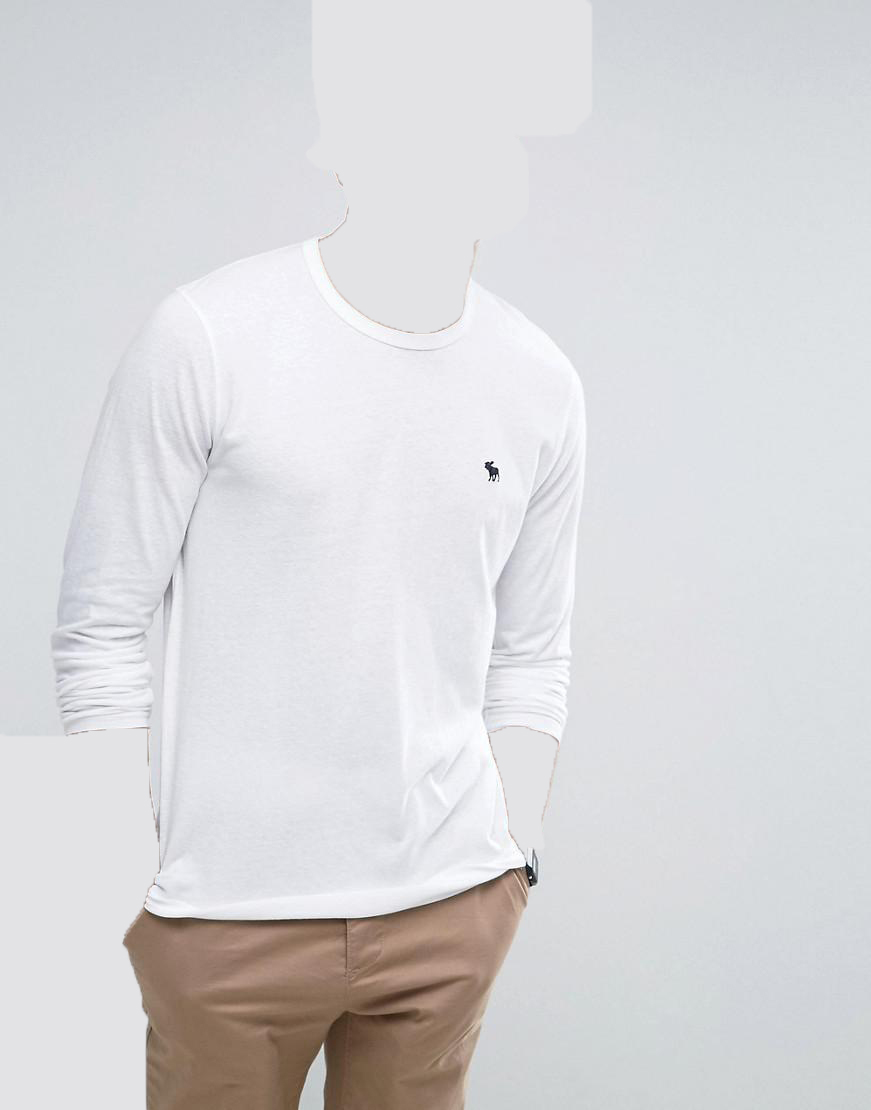teeshirt: (46, 239, 593, 920)
